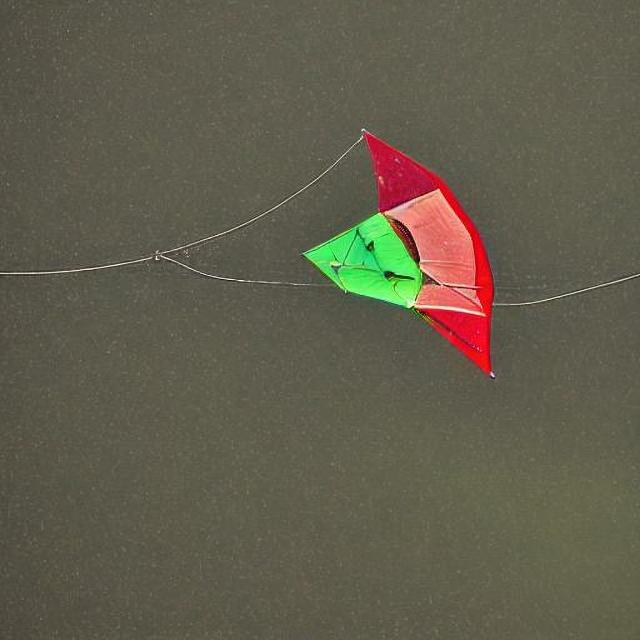floating object: (314, 133, 498, 376)
